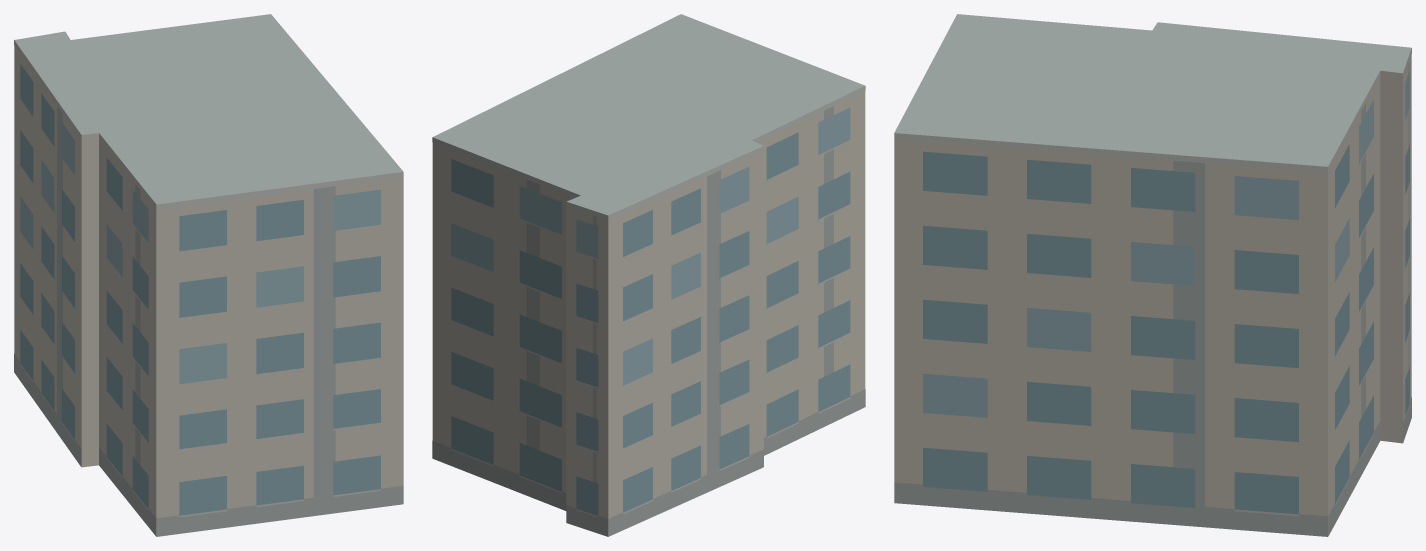
Rendered from survey-upis-32702776.glb.
The picture shows the model from 3 angles, left to right: view 1: azimuth 30°, elevation 25°; view 2: azimuth 150°, elevation 25°; view 3: azimuth 270°, elevation 25°; orthographic projection. The views are drawn at different scales.
Parts seen in each view (by area): view 1: survey-upis-32702776.tmp; view 2: survey-upis-32702776.tmp; view 3: survey-upis-32702776.tmp.
Part boxes in pixels (bbox=[...]): survey-upis-32702776.tmp: bbox=[14, 14, 403, 536]; survey-upis-32702776.tmp: bbox=[432, 14, 865, 536]; survey-upis-32702776.tmp: bbox=[894, 14, 1411, 536].
Bounding box in the file's own units: 13.51 × 15.25 × 19.34.
